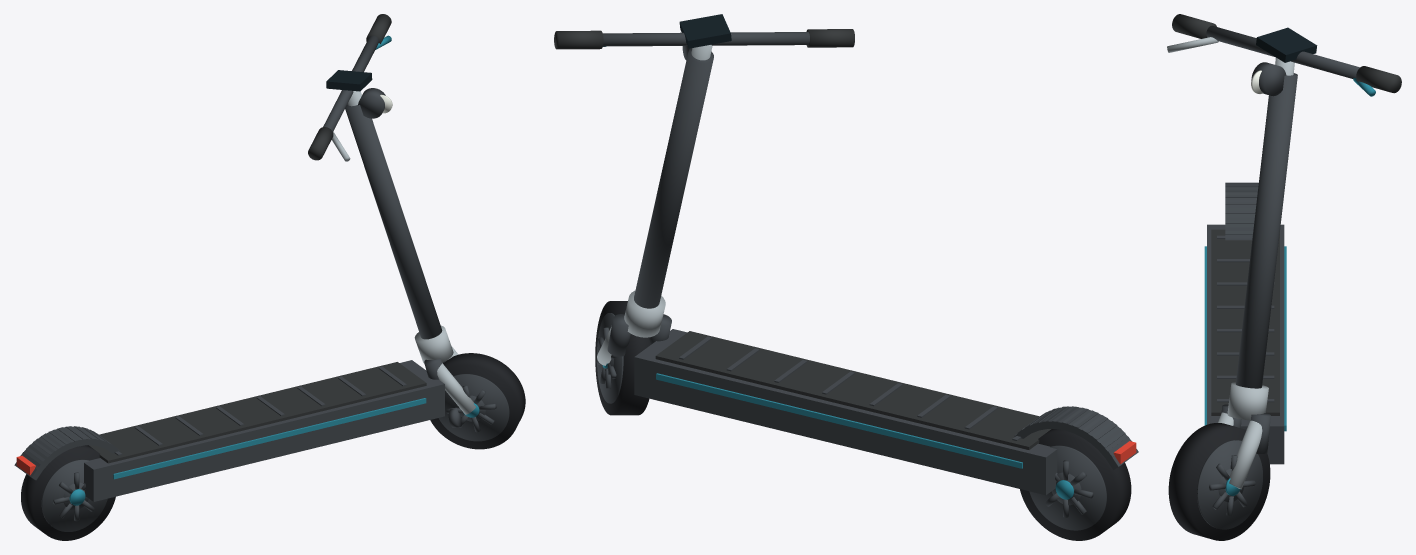
Rendered from Trotinete.glb.
The picture shows the model from 3 angles, left to right: view 1: azimuth 30°, elevation 25°; view 2: azimuth 150°, elevation 25°; view 3: azimuth 270°, elevation 25°; orthographic projection. The views are drawn at different scales.
Parts seen in each view (by area): view 1: Plataforma | corpo alumínio, Plataforma | tapete antiderrapante, Coluna | tubo principal, Dianteira | pneu, Traseira | pneu, Dianteira | flanco esquerdo, Traseira | flanco esquerdo, Plataforma | friso esquerdo, Guiador | barra transversal, Coluna | abraçadeira inferior, Guiador | visor, Forquilha | -1 (+1 smaller); view 2: Plataforma | corpo alumínio, Plataforma | tapete antiderrapante, Coluna | tubo principal, Traseira | pneu, Traseira | flanco direito, Plataforma | friso direito, Guiador | barra transversal, Dianteira | pneu, Guiador | visor, Coluna | abraçadeira inferior, Guiador | punho direito, Dianteira | flanco direito (+2 smaller); view 3: Coluna | tubo principal, Plataforma | tapete antiderrapante, Dianteira | pneu, Dianteira | flanco direito, Plataforma | corpo alumínio, Guiador | barra transversal, Guiador | visor, Coluna | abraçadeira inferior, Forquilha | 1, Guiador | punho direito, Farol | corpo, Guiador | punho esquerdo (+7 smaller).
Boxes of the visible parts, x1,y1,x2,y2 form: Plataforma | corpo alumínio: (84, 360, 444, 501); Plataforma | tapete antiderrapante: (89, 362, 426, 463); Coluna | tubo principal: (345, 104, 442, 339); Dianteira | pneu: (430, 353, 525, 449); Traseira | pneu: (21, 445, 115, 540); Dianteira | flanco esquerdo: (438, 374, 509, 441); Traseira | flanco esquerdo: (41, 459, 107, 531); Plataforma | friso esquerdo: (113, 398, 426, 479); Guiador | barra transversal: (323, 36, 379, 131); Coluna | abraçadeira inferior: (414, 325, 453, 363); Guiador | visor: (326, 70, 372, 91); Forquilha | -1: (437, 363, 475, 414); Plataforma | corpo alumínio: (634, 329, 1057, 495); Plataforma | tapete antiderrapante: (655, 331, 1051, 449); Coluna | tubo principal: (634, 49, 713, 308); Traseira | pneu: (1020, 429, 1131, 540); Traseira | flanco direito: (1029, 445, 1106, 530); Plataforma | friso direito: (656, 373, 1022, 468); Guiador | barra transversal: (603, 32, 809, 46); Dianteira | pneu: (595, 301, 651, 415); Guiador | visor: (679, 14, 731, 48); Coluna | abraçadeira inferior: (624, 290, 665, 337); Guiador | punho direito: (554, 30, 603, 49); Dianteira | flanco direito: (597, 313, 623, 403); Coluna | tubo principal: (1235, 73, 1297, 388); Plataforma | tapete antiderrapante: (1211, 229, 1279, 415); Dianteira | pneu: (1168, 423, 1270, 540); Dianteira | flanco direito: (1197, 440, 1262, 529); Plataforma | corpo alumínio: (1207, 224, 1284, 464); Guiador | barra transversal: (1206, 25, 1359, 78); Guiador | visor: (1256, 27, 1317, 62); Coluna | abraçadeira inferior: (1227, 382, 1268, 420); Forquilha | 1: (1229, 420, 1262, 489); Guiador | punho direito: (1356, 66, 1401, 93); Farol | corpo: (1251, 62, 1286, 96); Guiador | punho esquerdo: (1172, 14, 1216, 38).
Bounding box in the file's own units: 1.47 × 1.13 × 0.5312.
